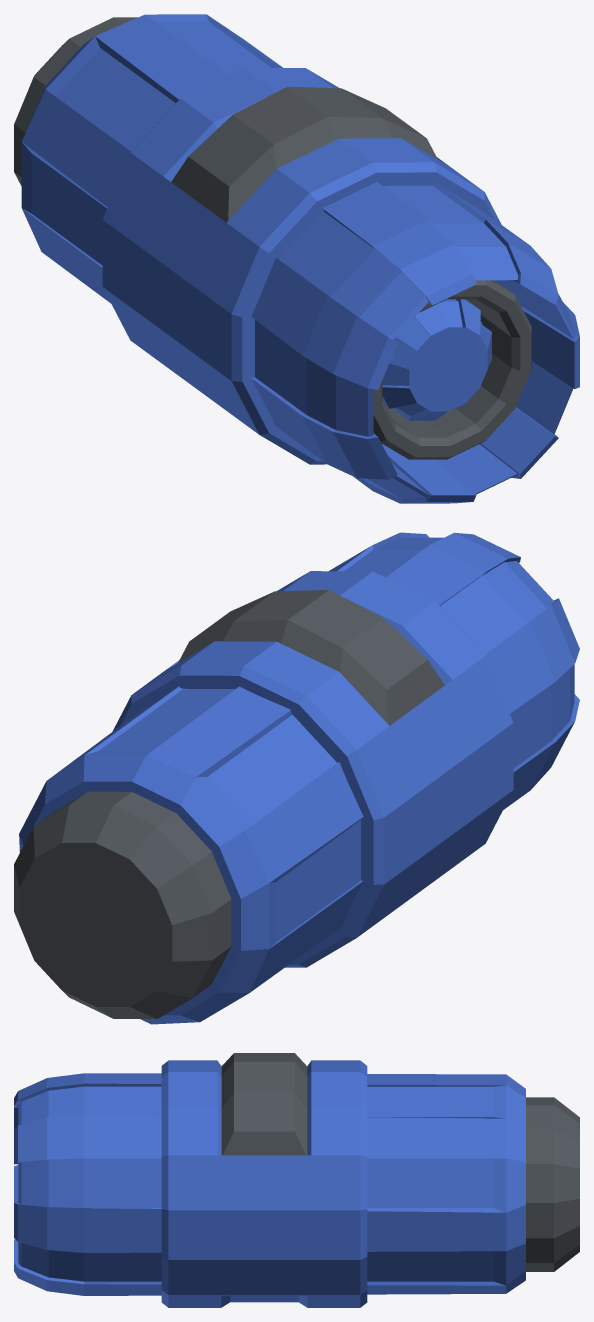
The model's file is Fighter_05_Thruster_2_Blue.fbx.
The picture shows the model from 3 angles, top to bottom: view 1: azimuth 30°, elevation 25°; view 2: azimuth 150°, elevation 25°; view 3: azimuth 270°, elevation 25°; orthographic projection. The views are drawn at different scales.
Visible parts, largest first — view 1: Fighter_05_Thruster_2_Blue; view 2: Fighter_05_Thruster_2_Blue; view 3: Fighter_05_Thruster_2_Blue.
Boxes of the visible parts, left/top/right/bottom form: Fighter_05_Thruster_2_Blue: left=14, top=14, right=579, bottom=503; Fighter_05_Thruster_2_Blue: left=14, top=532, right=579, bottom=1024; Fighter_05_Thruster_2_Blue: left=14, top=1053, right=579, bottom=1307.
Size of the model in its own units: 300 by 321 by 703.
1 material, 1 textured.
